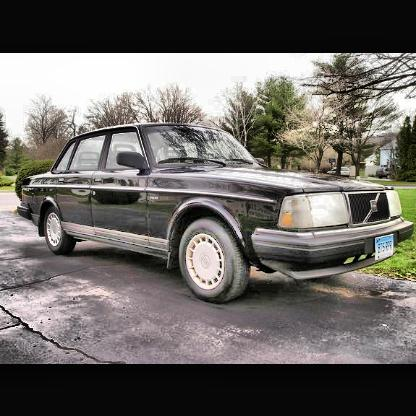Volvo 240 Sedan 1993: (18, 124, 415, 307)
